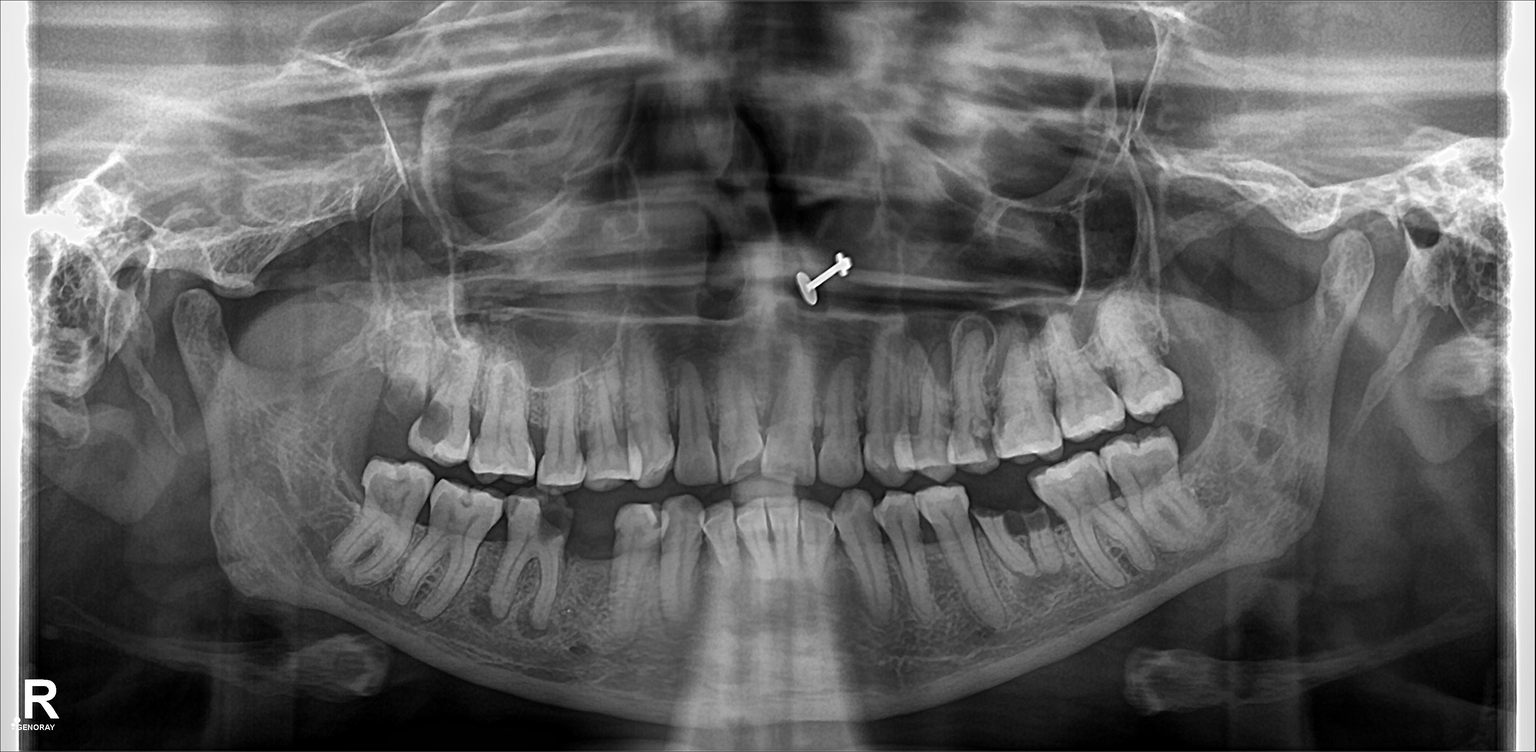Dental Caries: (529, 493, 563, 547), (421, 406, 454, 444), (382, 378, 416, 411)
Missing Tooth: (574, 504, 624, 603), (326, 441, 365, 524)
Retained Root: (378, 344, 422, 444), (970, 491, 1009, 578), (1013, 490, 1050, 573)
